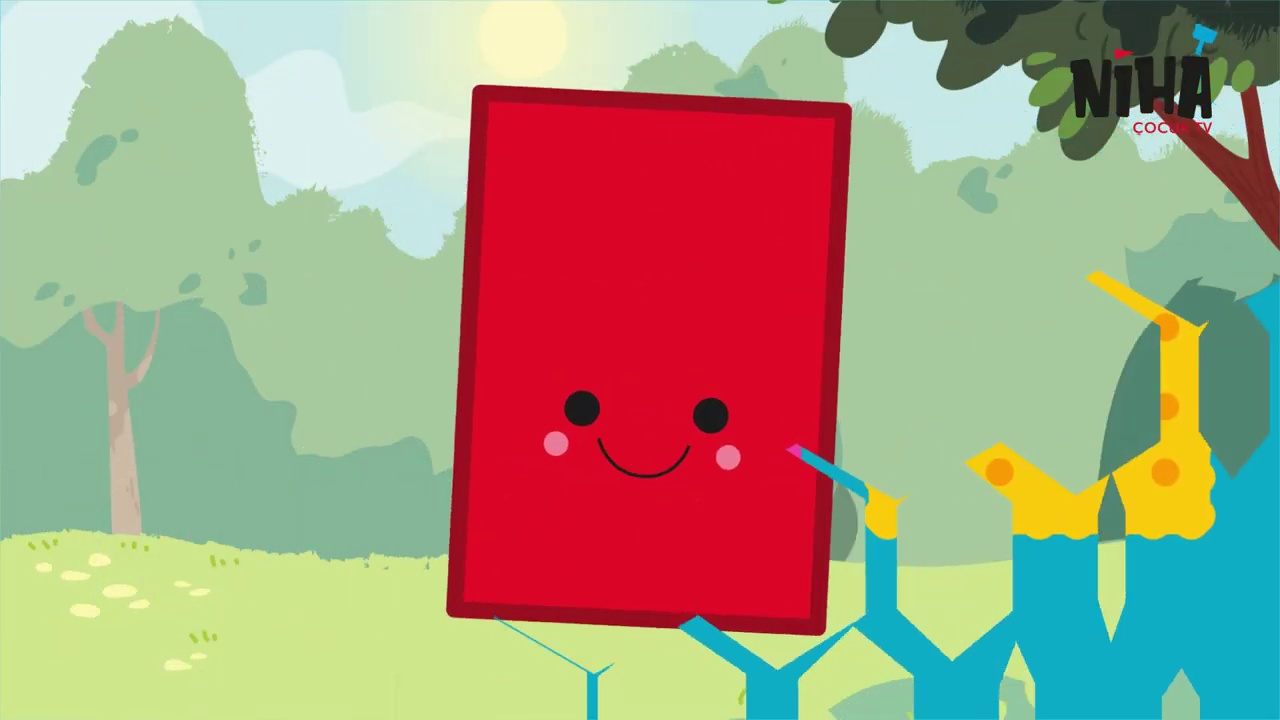dikdortgen: (448, 75, 854, 639)
